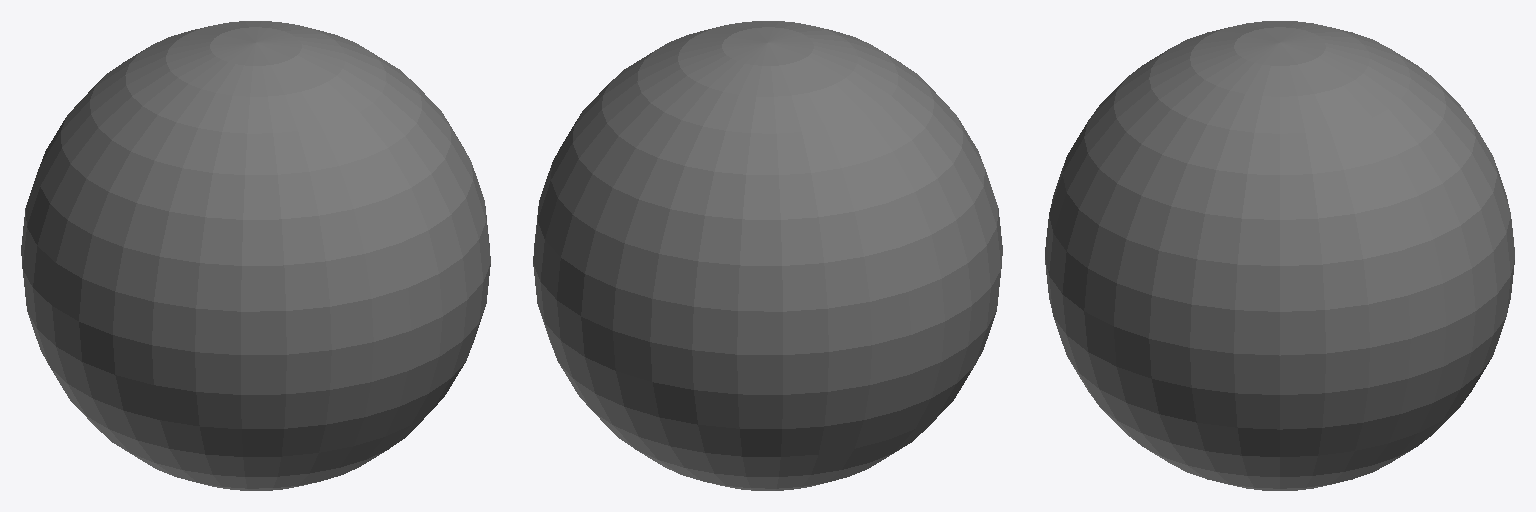
The model's file is Ball.obj.
The picture shows the model from 3 angles: view 1: azimuth 30°, elevation 25°; view 2: azimuth 150°, elevation 25°; view 3: azimuth 270°, elevation 25°; orthographic projection.
Parts seen in each view (by area): view 1: Sphere; view 2: Sphere; view 3: Sphere.
Part boxes in pixels (x1,y1,x2,y2): Sphere: (21, 21, 490, 490); Sphere: (533, 21, 1002, 490); Sphere: (1045, 21, 1514, 490).
Size of the model in its own units: 2 by 2 by 2.